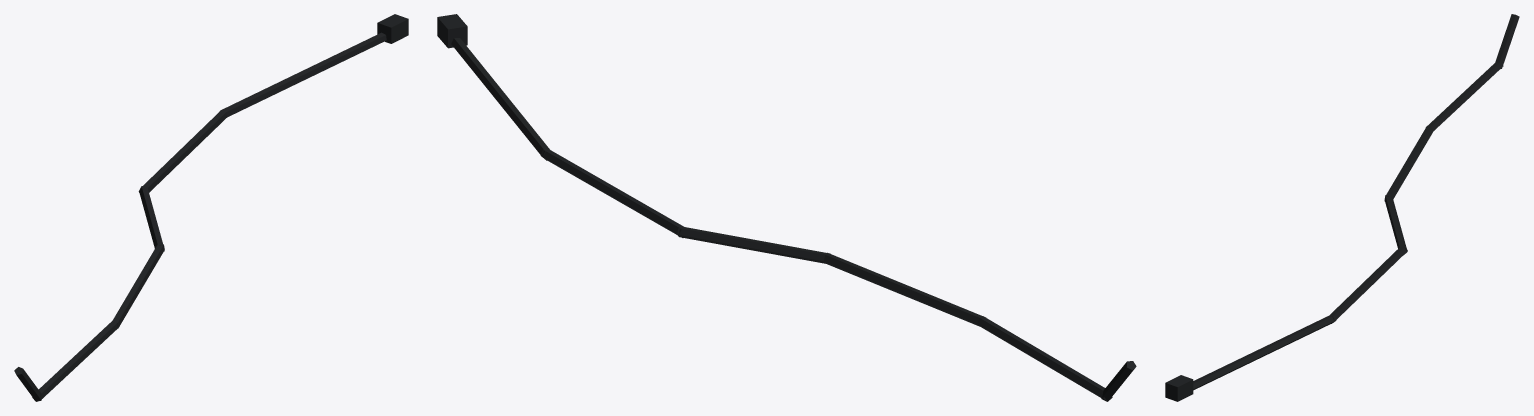
Rendered from lwf_power_lead_v1.glb.
3 renders of one model, left to right at view 1: azimuth 90°, elevation 25°; view 2: azimuth 150°, elevation 25°; view 3: azimuth 270°, elevation 25°, orthographic. The views are drawn at different scales.
Visible parts, largest first — view 1: LWF_PowerLead; view 2: LWF_PowerLead; view 3: LWF_PowerLead.
Boxes of the visible parts, box(x1,y1,x2,y2) form: LWF_PowerLead: box(14, 14, 408, 401); LWF_PowerLead: box(437, 14, 1136, 401); LWF_PowerLead: box(1165, 14, 1519, 401).
Size of the model in its own units: 4.04 by 0.234 by 1.74.
Materials: 1 (1 with a texture image).
